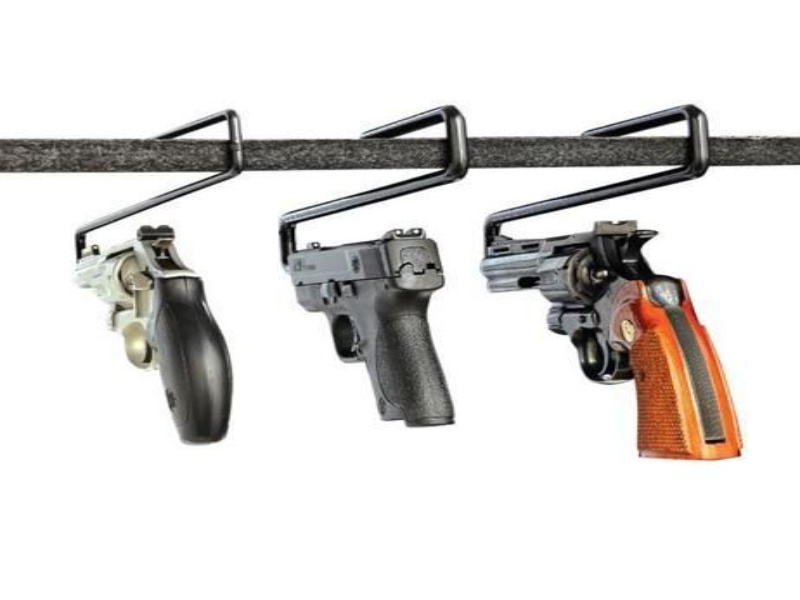gun: (480, 219, 755, 464), (275, 225, 475, 442), (65, 221, 253, 449)
